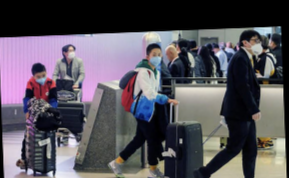with_mask: (248, 37, 264, 56), (149, 51, 163, 67), (33, 72, 47, 85), (65, 48, 76, 60)
